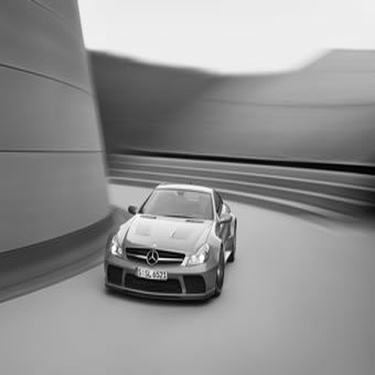car: (96, 175, 243, 310)
